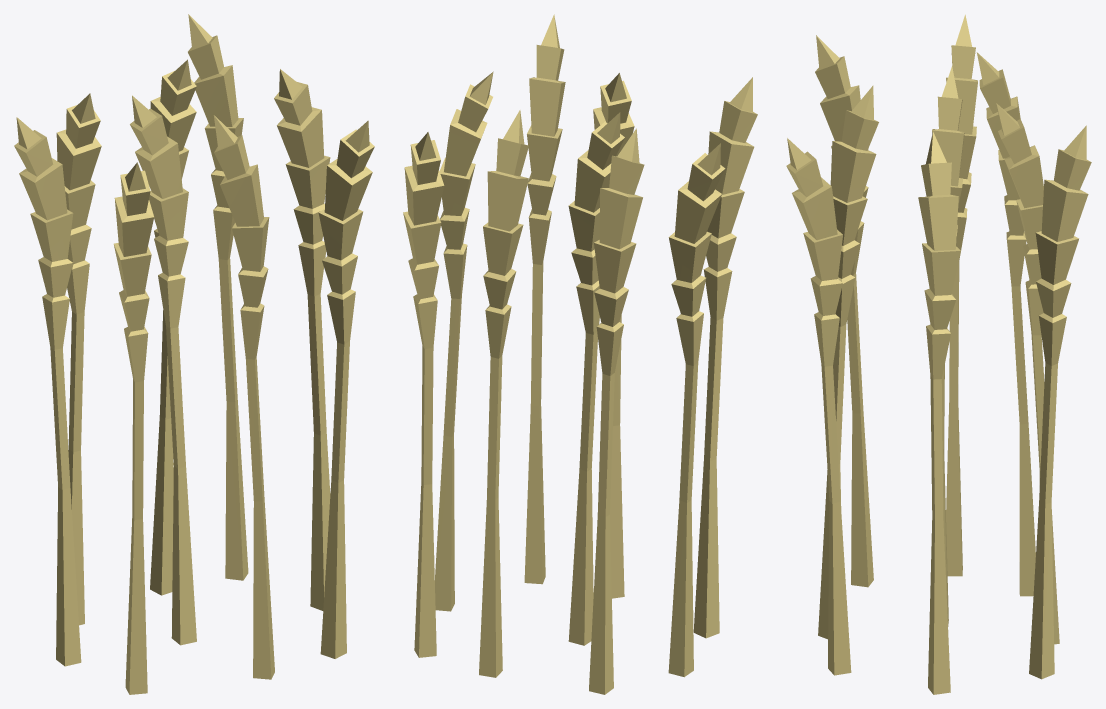
Rendered from Wheat_4-optimized.glb.
3 views of the same model, side by side, from view 1: azimuth 30°, elevation 25°; view 2: azimuth 150°, elevation 25°; view 3: azimuth 270°, elevation 25° (orthographic). The views are drawn at different scales.
Visible parts, largest first — view 1: Wheat_4.008, Wheat_4.001, Wheat_4, Wheat_4.002, Wheat_4.006, Wheat_4.007, Wheat_4.005, Wheat_4.004, Wheat_4.003; view 2: Wheat_4.004, Wheat_4.003, Wheat_4.001, Wheat_4.007, Wheat_4, Wheat_4.008, Wheat_4.005, Wheat_4.002, Wheat_4.006; view 3: Wheat_4.005, Wheat_4.002, Wheat_4.008, Wheat_4.006, Wheat_4.004, Wheat_4.007, Wheat_4.001, Wheat_4.003, Wheat_4.
Part boxes in pixels (x1,y1,x2,y2): Wheat_4.008: (318,120,374,658); Wheat_4.001: (14,117,81,666); Wheat_4: (130,95,196,645); Wheat_4.002: (274,69,330,610); Wheat_4.006: (213,115,274,679); Wheat_4.007: (113,162,154,694); Wheat_4.005: (188,14,248,580); Wheat_4.004: (56,93,101,625); Wheat_4.003: (150,59,196,595); Wheat_4.004: (589,128,644,694); Wheat_4.003: (479,110,528,677); Wheat_4.001: (668,143,725,677); Wheat_4.007: (693,77,757,638); Wheat_4: (568,112,624,645); Wheat_4.008: (524,14,565,584); Wheat_4.005: (403,132,444,657); Wheat_4.002: (435,71,493,611); Wheat_4.006: (593,73,634,598); Wheat_4.005: (1029,125,1091,679); Wheat_4.002: (918,132,960,694); Wheat_4.008: (786,138,851,675); Wheat_4.006: (818,85,878,639); Wheat_4.004: (976,52,1035,596); Wheat_4.007: (815,35,873,587); Wheat_4.001: (946,14,977,576); Wheat_4.003: (996,103,1059,644); Wheat_4: (932,66,964,626).
Bounding box in the file's own units: 0.547 × 0.948 × 0.4892.
